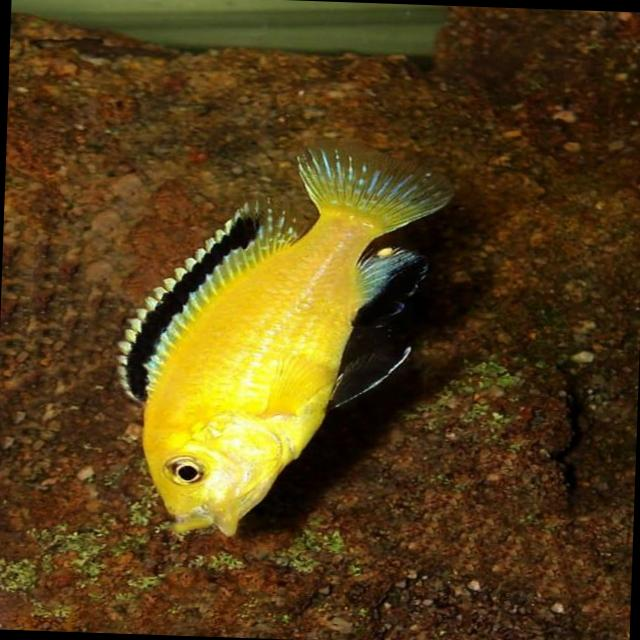YellowCichlid: (114, 140, 460, 540)
